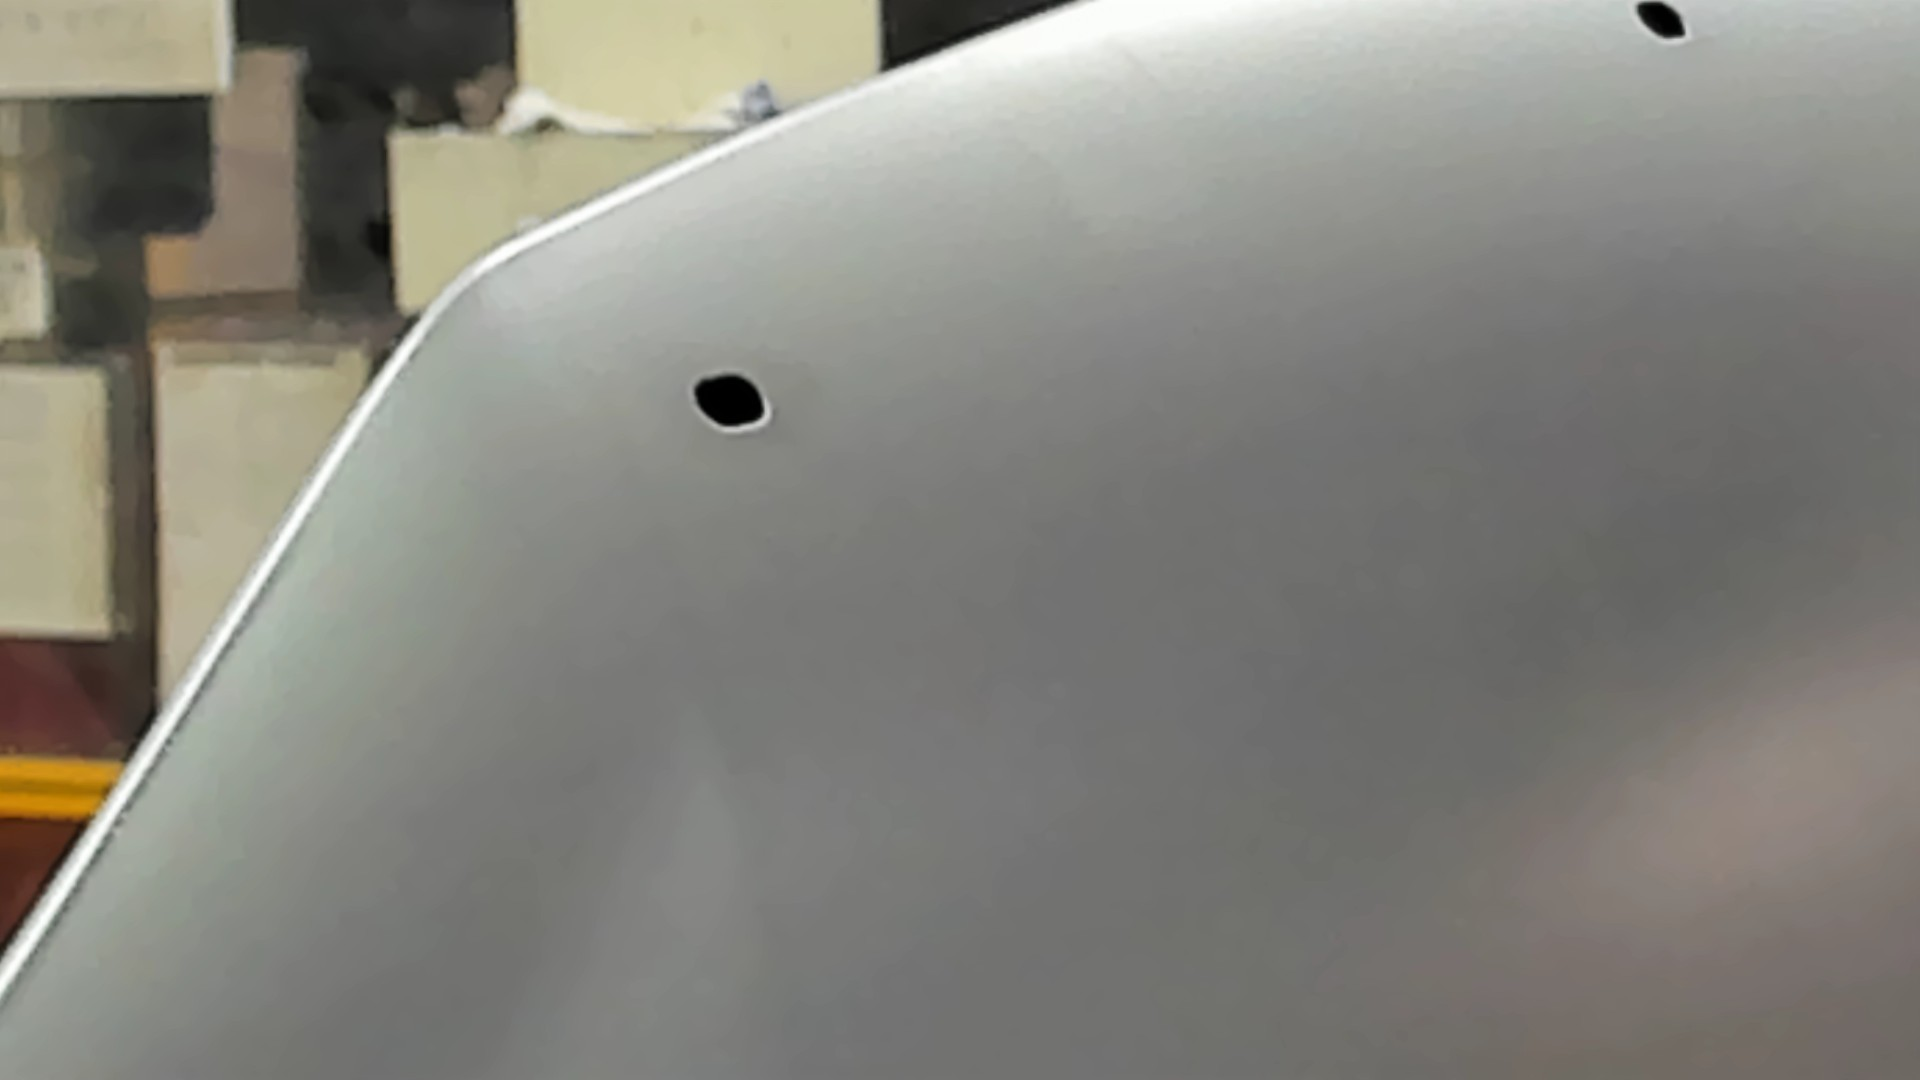amorfo: (686, 367, 778, 442), (1625, 1, 1698, 50)
